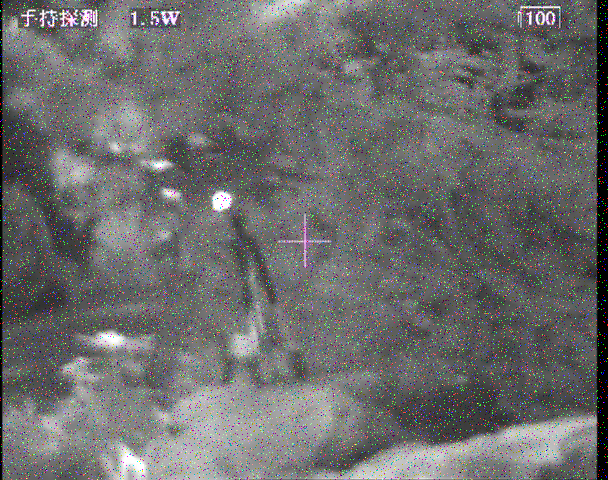my: (211, 191, 231, 213)
